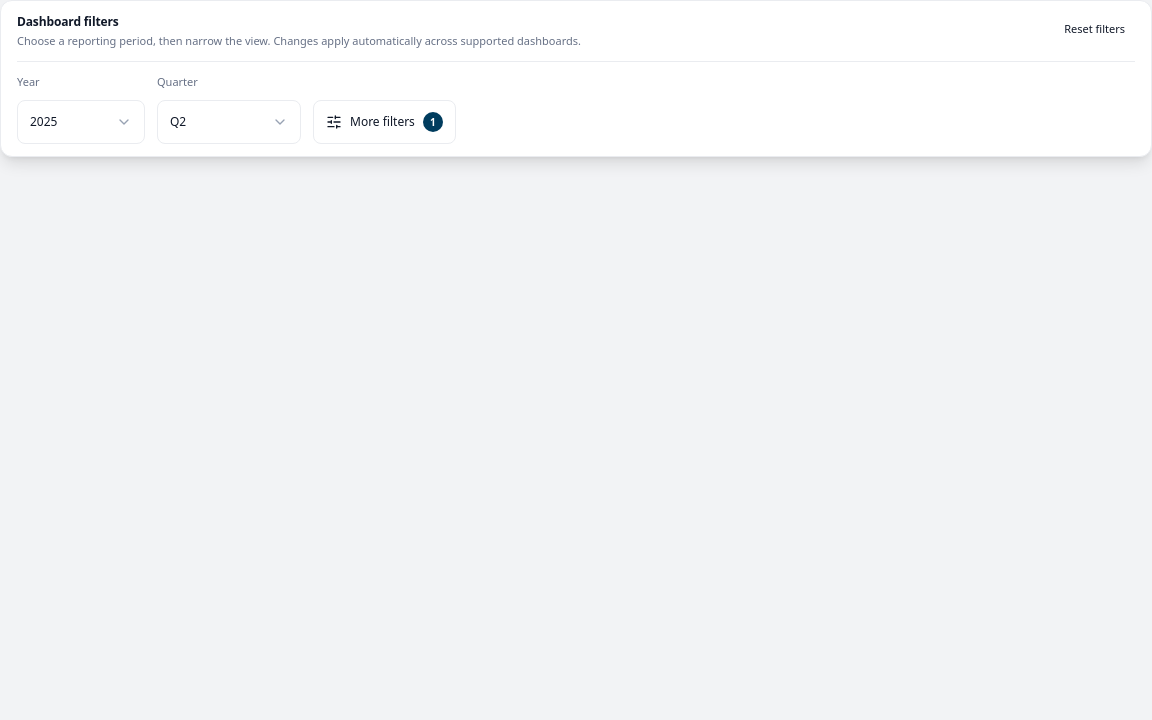
GlobalFilterBar › More filters popover › clears only the secondary filters, leaving the reporting period alone
Step 1. Click the button "More filters 1" → (384, 122), box [313,100,456,144]
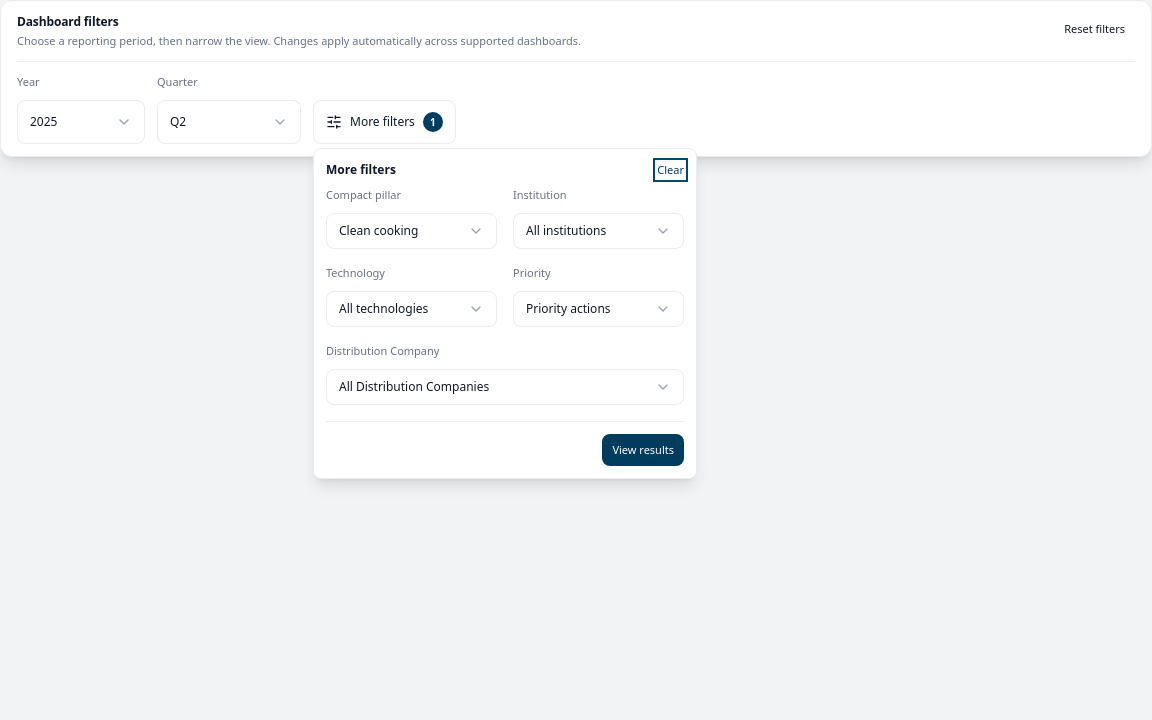
Step 2. Click the button "Clear" → (671, 170), box [657,162,684,178]
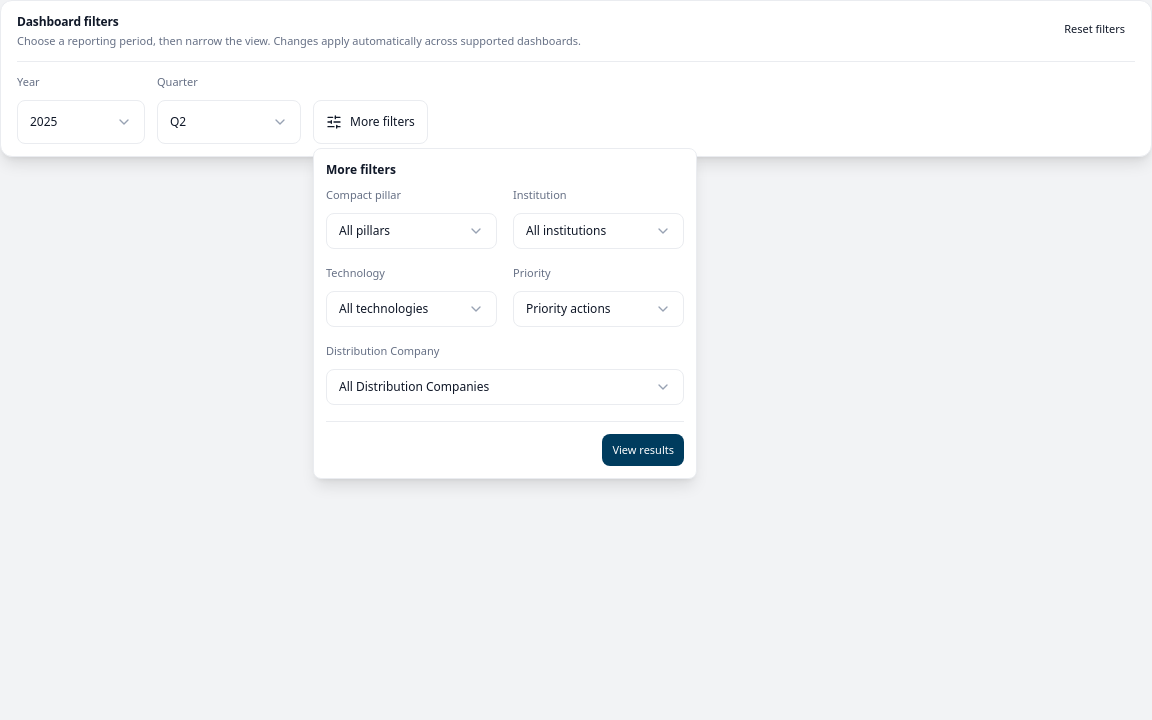
Expected: the dropdown named "Quarter" reads "Q2", [157,100,301,144]
Now the dropdown named "Compact pillar" reads "All pillars", box [326,213,497,249]
